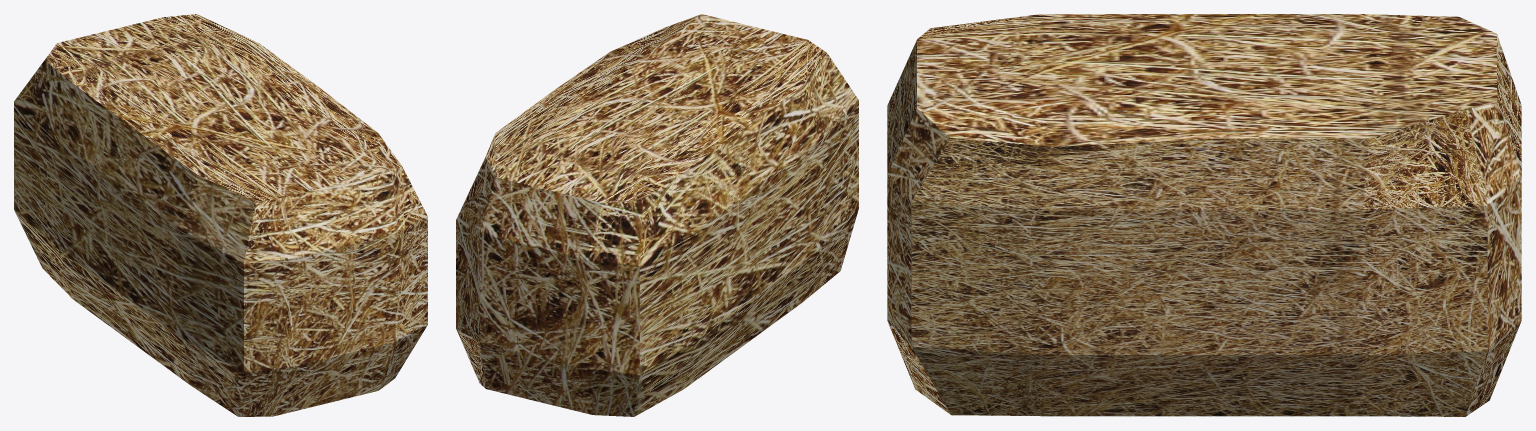
Rendered from straw.fbx.
3 views of the same model, side by side, from view 1: azimuth 30°, elevation 25°; view 2: azimuth 150°, elevation 25°; view 3: azimuth 270°, elevation 25° (orthographic). The views are drawn at different scales.
Parts seen in each view (by area): view 1: Cube; view 2: Cube; view 3: Cube.
Part boxes in pixels (box(x1,y1,x2,y2)): Cube: box(14, 14, 427, 416); Cube: box(456, 14, 858, 416); Cube: box(887, 14, 1521, 416).
Bounding box in the file's own units: 85.76 × 87.76 × 166.
Materials: 1 (1 with a texture image).
